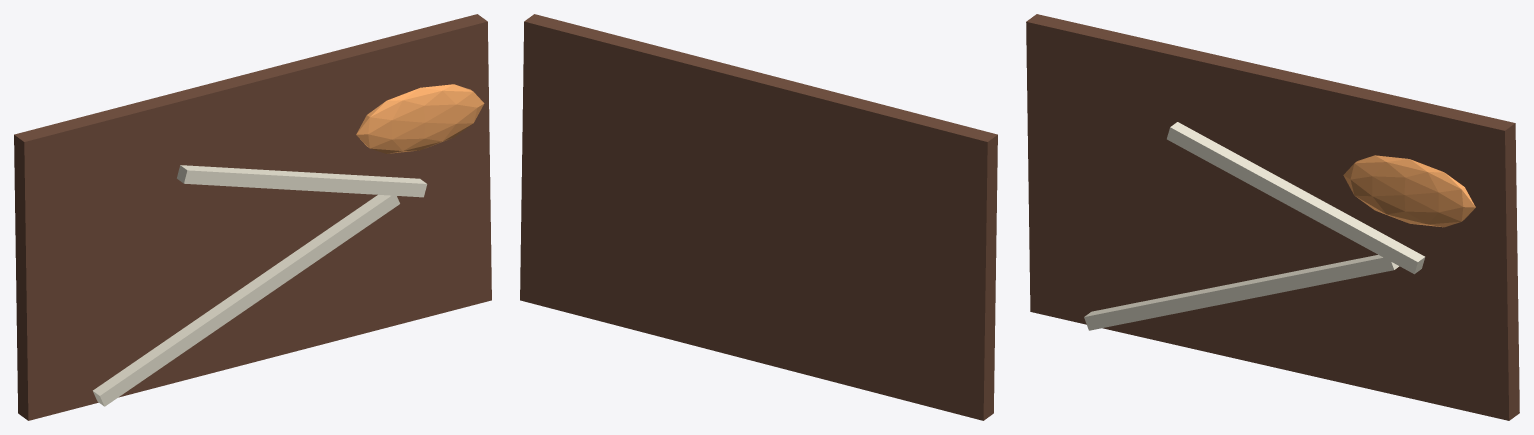
Rendered from 01_weathering_wear_overlay_1.glb.
3 renders of one model, left to right at view 1: azimuth 30°, elevation 25°; view 2: azimuth 150°, elevation 25°; view 3: azimuth 330°, elevation 25°, orthographic. The views are drawn at different scales.
Parts seen in each view (by area): view 1: wear_plate, scratch_a, rust_or_moss_spot, scratch_b; view 2: wear_plate; view 3: wear_plate, rust_or_moss_spot, scratch_b, scratch_a.
Part boxes in pixels (bbox=[...]): wear_plate: bbox=[14, 14, 491, 420]; scratch_a: bbox=[93, 195, 399, 406]; rust_or_moss_spot: bbox=[356, 84, 484, 153]; scratch_b: bbox=[177, 165, 427, 197]; wear_plate: bbox=[520, 14, 997, 420]; wear_plate: bbox=[1026, 14, 1519, 420]; rust_or_moss_spot: bbox=[1343, 155, 1475, 227]; scratch_b: bbox=[1167, 122, 1425, 274]; scratch_a: bbox=[1084, 254, 1399, 330].
Bounding box in the file's own units: 1.31 × 0.77 × 0.134.
